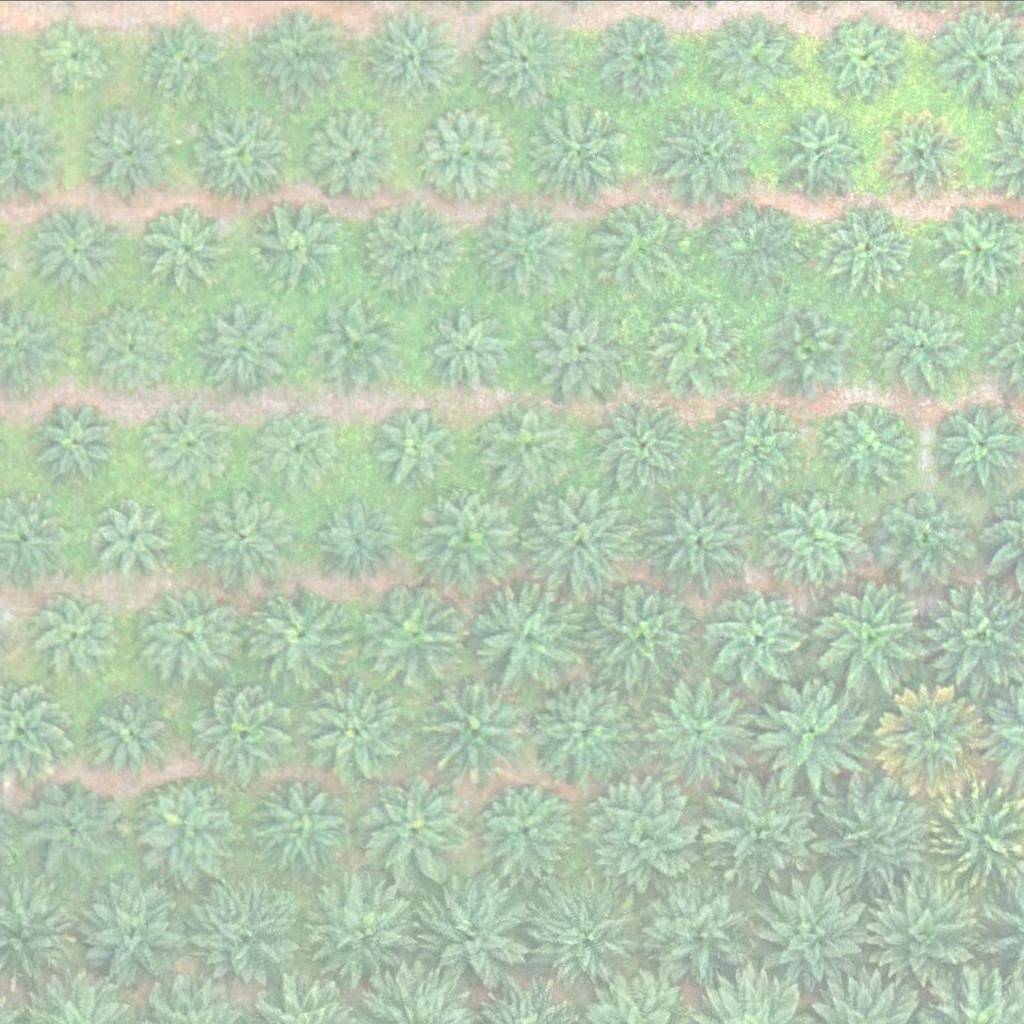Kelapa_Sawit: (75, 873, 188, 986), (185, 877, 298, 990), (305, 872, 418, 985), (419, 875, 532, 988), (530, 881, 643, 994), (645, 873, 758, 986), (585, 773, 698, 886), (699, 770, 812, 883), (817, 771, 930, 884), (472, 580, 585, 693), (524, 482, 637, 595), (644, 479, 757, 592), (878, 682, 991, 795), (756, 872, 869, 984), (359, 769, 472, 881), (298, 674, 411, 786), (425, 667, 538, 779), (531, 674, 644, 786), (650, 674, 763, 786), (756, 677, 869, 789), (590, 574, 703, 686), (814, 573, 927, 685), (871, 883, 984, 995), (192, 483, 293, 583), (139, 584, 240, 684), (256, 584, 357, 684), (193, 680, 294, 780), (26, 775, 127, 875), (136, 774, 237, 874), (250, 777, 351, 877), (476, 775, 577, 875), (710, 585, 811, 685), (705, 393, 806, 493), (304, 293, 405, 393), (357, 198, 458, 298), (478, 193, 579, 293), (417, 102, 518, 202), (528, 103, 629, 203), (661, 102, 762, 202), (473, 7, 574, 107), (868, 292, 969, 392), (876, 486, 977, 586), (251, 4, 351, 104), (190, 104, 290, 204), (247, 198, 347, 298), (194, 298, 294, 398), (360, 583, 460, 683), (420, 485, 520, 585), (478, 397, 578, 497), (526, 299, 626, 399), (587, 190, 687, 290), (707, 191, 807, 291), (313, 108, 402, 196), (143, 11, 231, 99), (87, 110, 175, 198), (88, 688, 176, 776), (427, 303, 515, 391), (649, 304, 737, 392), (768, 301, 856, 389), (597, 14, 685, 102), (824, 201, 912, 289), (35, 206, 123, 293), (146, 203, 234, 290), (95, 303, 183, 390), (87, 491, 175, 578), (31, 589, 119, 676), (774, 493, 862, 580), (598, 398, 686, 485), (709, 11, 797, 98), (781, 106, 869, 193), (820, 14, 908, 101), (878, 110, 966, 197), (827, 402, 915, 489), (41, 401, 117, 476), (152, 403, 228, 478), (322, 500, 398, 575), (375, 406, 451, 481), (41, 15, 116, 90), (267, 411, 342, 486)
